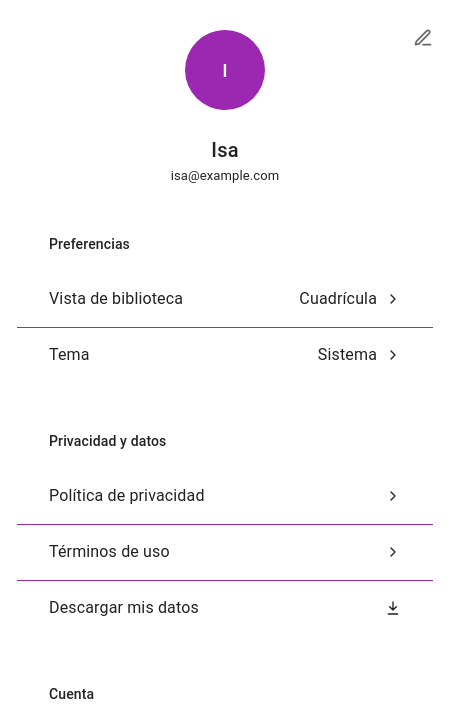
Test: Given the edit profile screen › When the user opens it from the profile › Then the name is shown, ready to edit
Click the button named "Editar perfil". click: (423, 38)
box: x1=401 y1=16 x2=445 y2=60
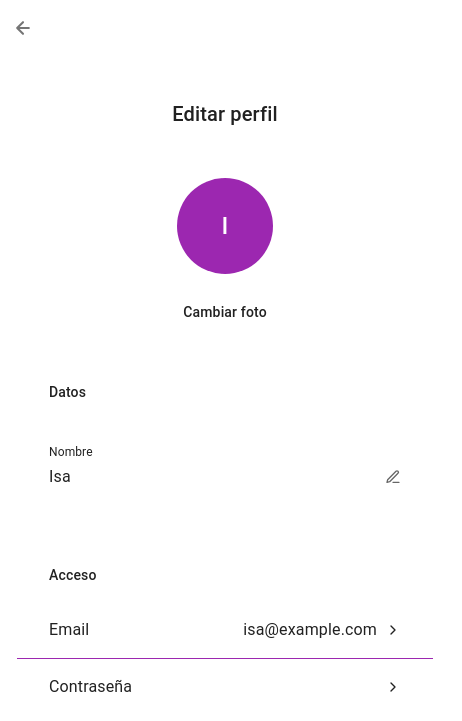
Result: the field labelled "Nombre" holds "Isa" at x1=49 y1=461 x2=369 y2=493
Result: the heading "Editar perfil" is shown at x1=172 y1=102 x2=278 y2=126
